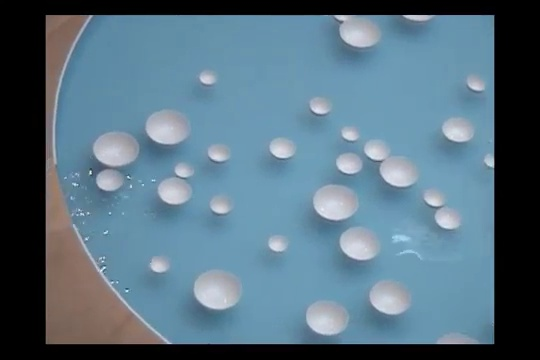bowl: (191, 268, 244, 313), (301, 298, 352, 338), (310, 183, 361, 222), (144, 107, 195, 146), (366, 276, 414, 316), (91, 129, 140, 167), (337, 225, 385, 261), (378, 154, 421, 189), (338, 19, 383, 50), (439, 113, 478, 144), (157, 178, 194, 206), (94, 168, 128, 194), (333, 152, 366, 176), (433, 204, 463, 230), (362, 137, 393, 162), (268, 136, 298, 160), (307, 93, 335, 117), (422, 186, 450, 210), (431, 330, 479, 344), (208, 194, 236, 216), (206, 143, 233, 163), (465, 71, 488, 94), (149, 252, 171, 274), (340, 124, 362, 143), (173, 162, 196, 180), (401, 12, 437, 23), (197, 68, 219, 86), (268, 233, 287, 252), (483, 151, 494, 170), (334, 13, 358, 21)
